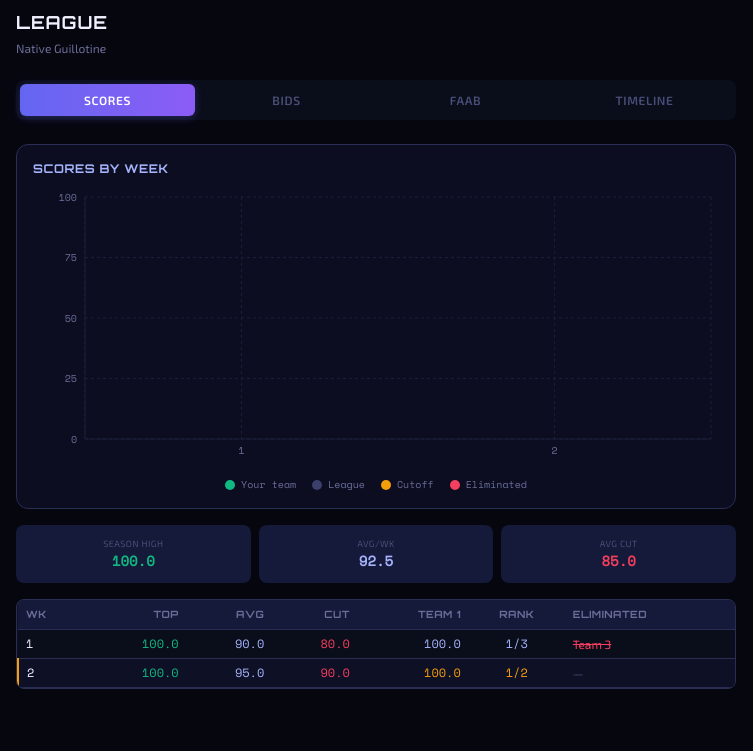
Test: LeaguePage Bids by Week placement and filter wiring › filters the chart by week and position, restores all weeks, and includes transaction-only weeks
The image size is (753, 751).
Click the button "Bids".
click(286, 100)  # box [199, 84, 374, 116]
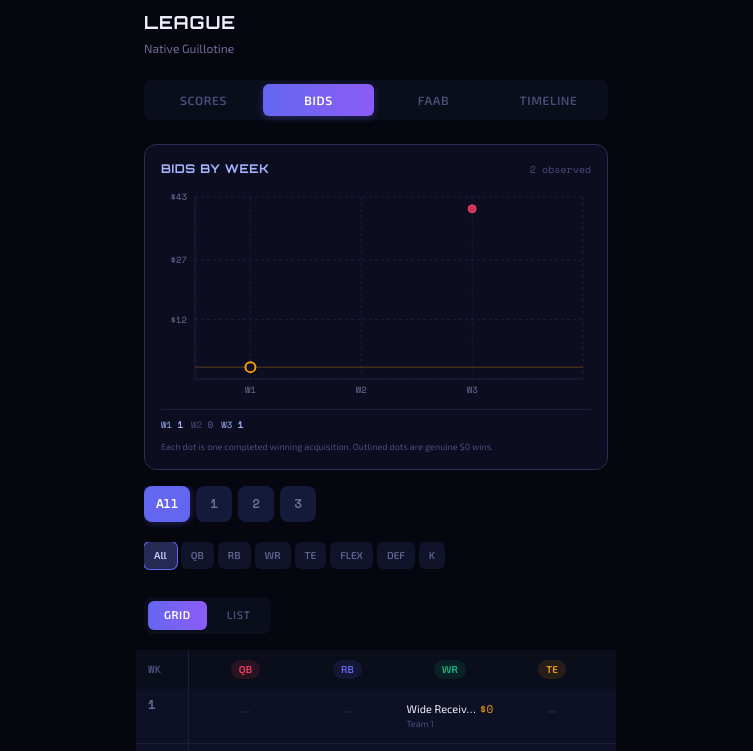
Expected: the button "3" is shown, [280, 486, 316, 522]
Click the button "1".
click(214, 504)  # box [196, 486, 232, 522]
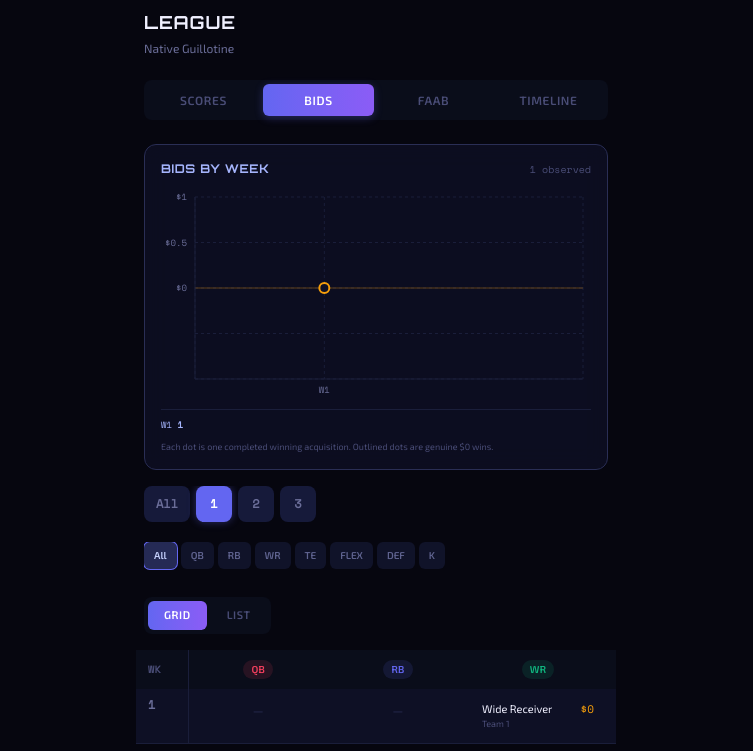
Expected: the picture named "Completed winning waiver bid amounts by week for all positio" is shown, [161, 189, 591, 409]
Click the button "FLEX".
click(352, 556)  # box [330, 542, 373, 569]
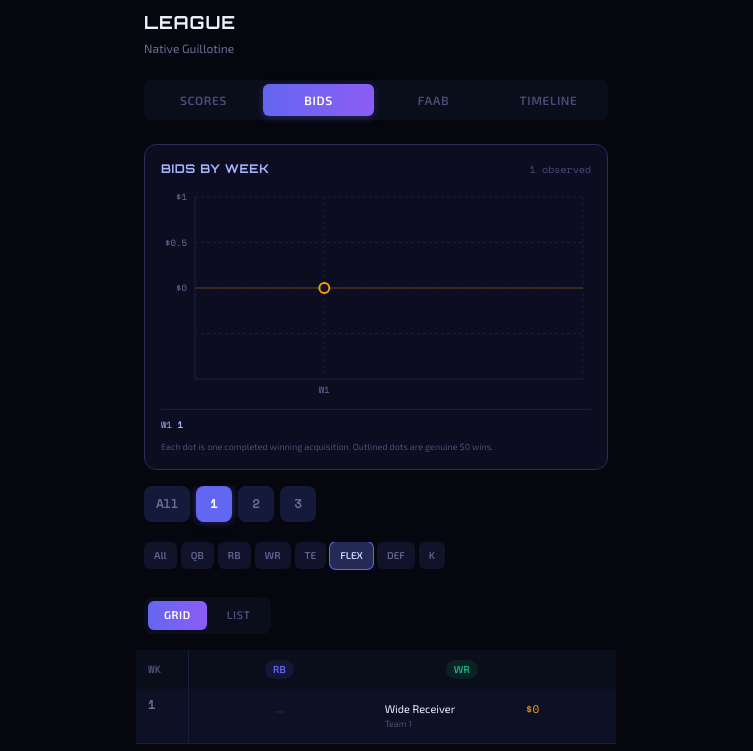
Click the button "3".
click(298, 504)  # box [280, 486, 316, 522]
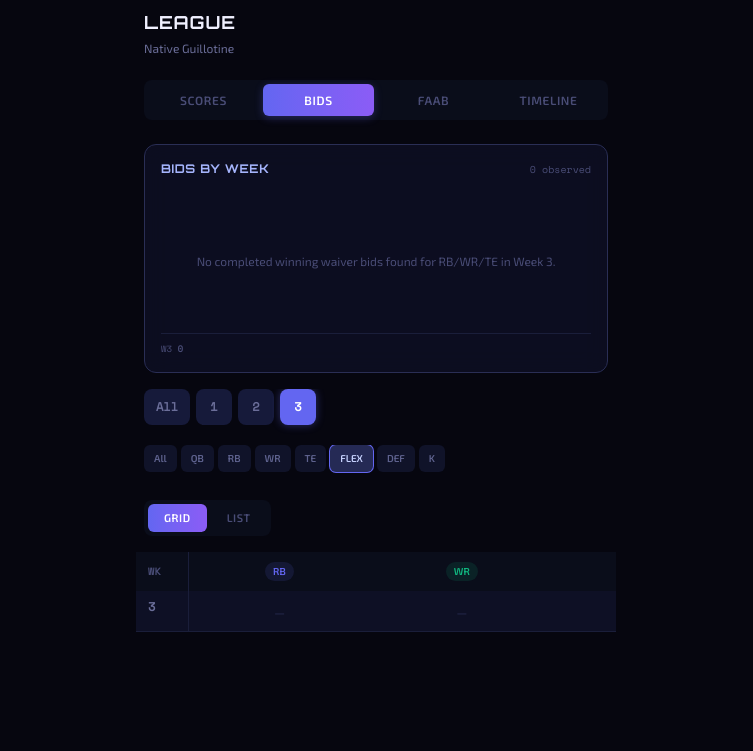
Expected: the text "No completed winning waiver bids found for RB/WR/TE in Week 3." is shown, [197, 253, 555, 269]
Click the 1st button "All".
click(167, 406)  # box [144, 388, 190, 424]
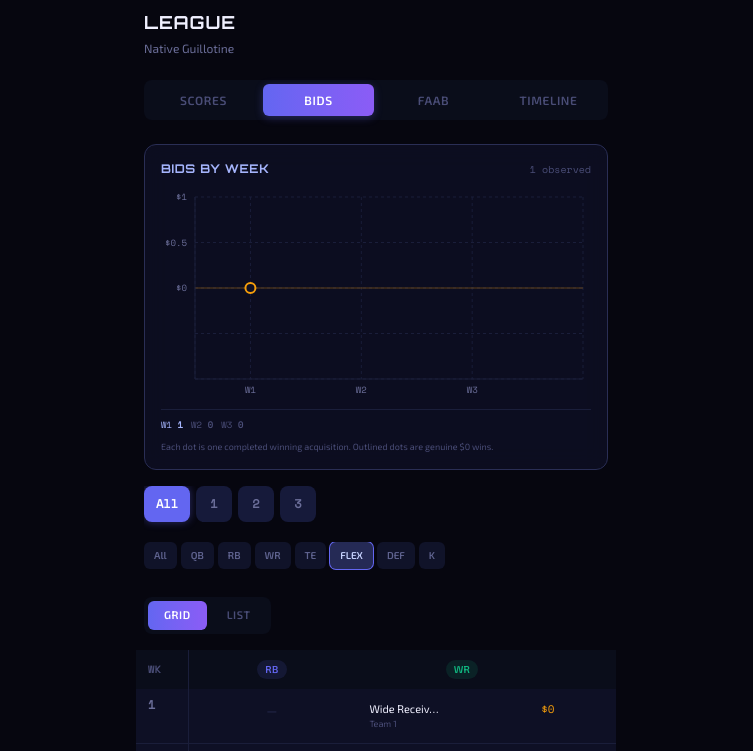
Expected: the picture named "Week 1: 1 observed win; Week 2: 0 observed wins; Week 3: 0 observed wins" is shown, [161, 189, 591, 409]
Click the 2nd button "All".
click(160, 556)  # box [144, 542, 177, 569]
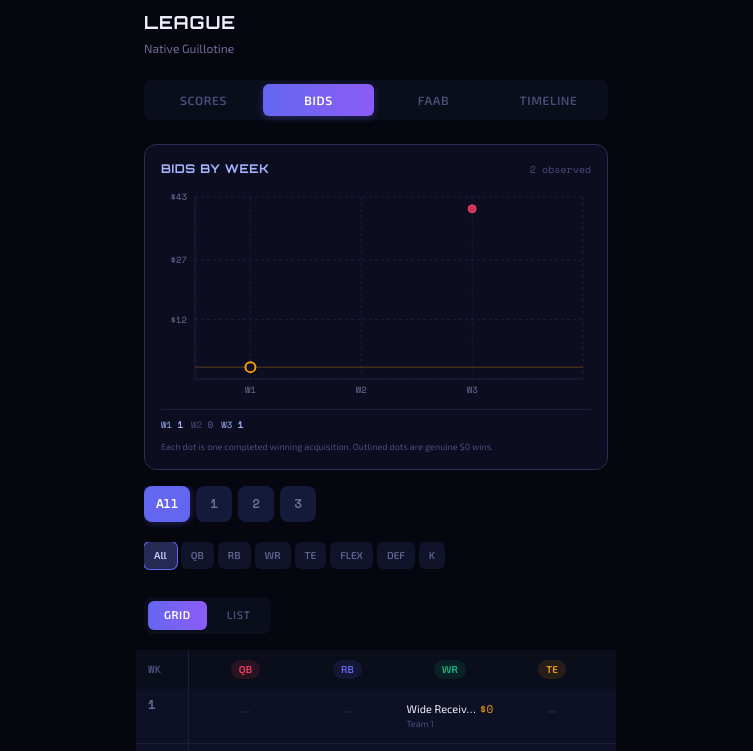
Expected: the picture named "Week 1: 1 observed win; Week 2: 0 observed wins; Week 3: 1 observed win" is shown, [161, 189, 591, 409]
